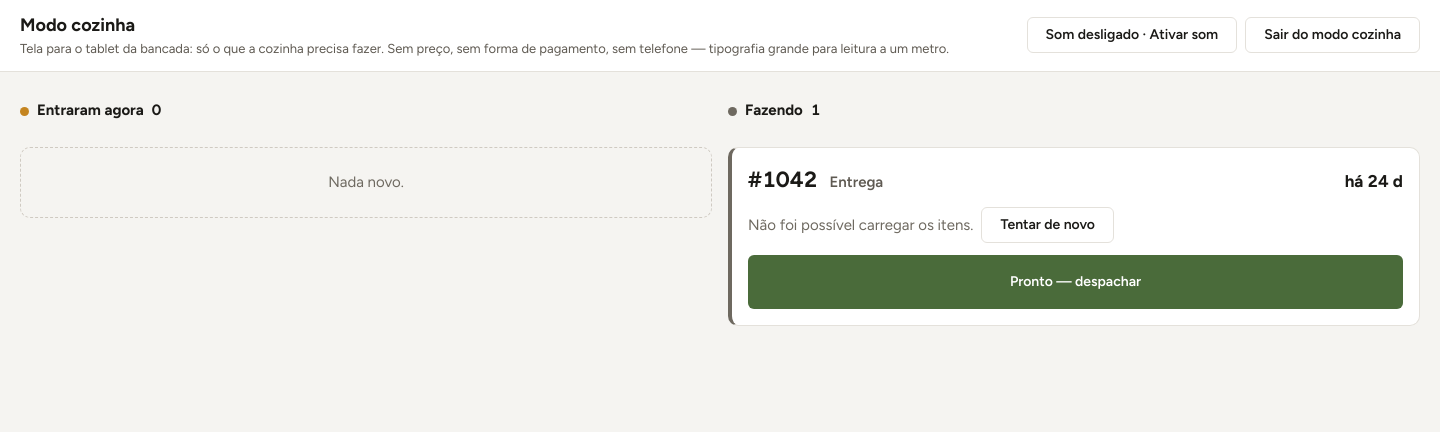
Test: KitchenPage › itens com erro no detalhe deixam 'Tentar de novo', que traz os itens
This screenshot has width=1440, height=432.
expect the text "Não foi possível carregar os itens." is shown: met, box [748,215,973,236]
Click the button "Tentar de novo" at (1048, 226), box [981,208,1114,244]
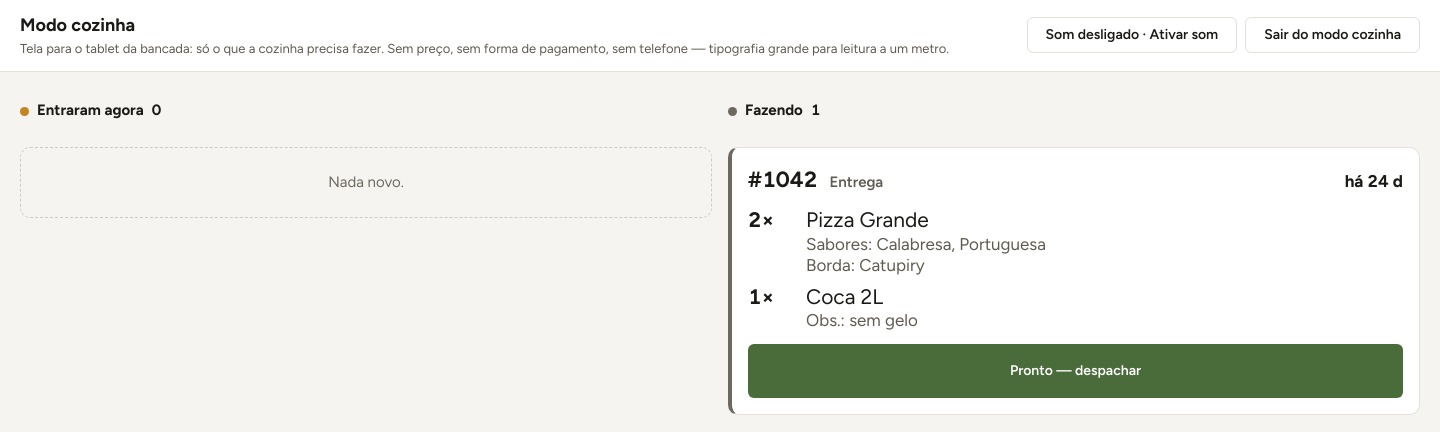
expect the text "Pizza Grande" is shown: met, box [806,208,929,232]
